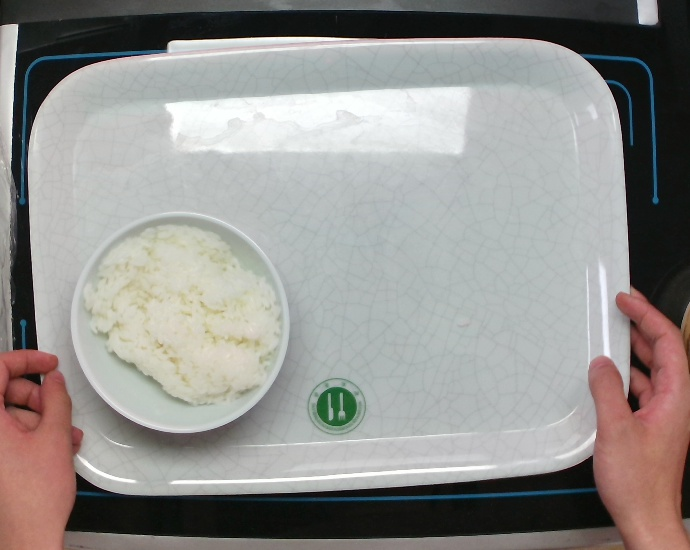JYsf-Fan_Wan: (68, 209, 291, 435)
